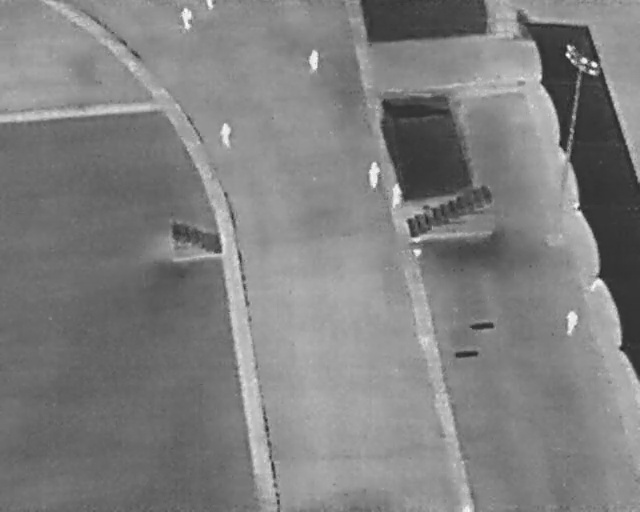Person: (366, 160, 382, 191), (178, 5, 194, 34), (565, 307, 579, 337), (219, 124, 235, 148), (307, 48, 321, 73), (202, 0, 218, 11)
